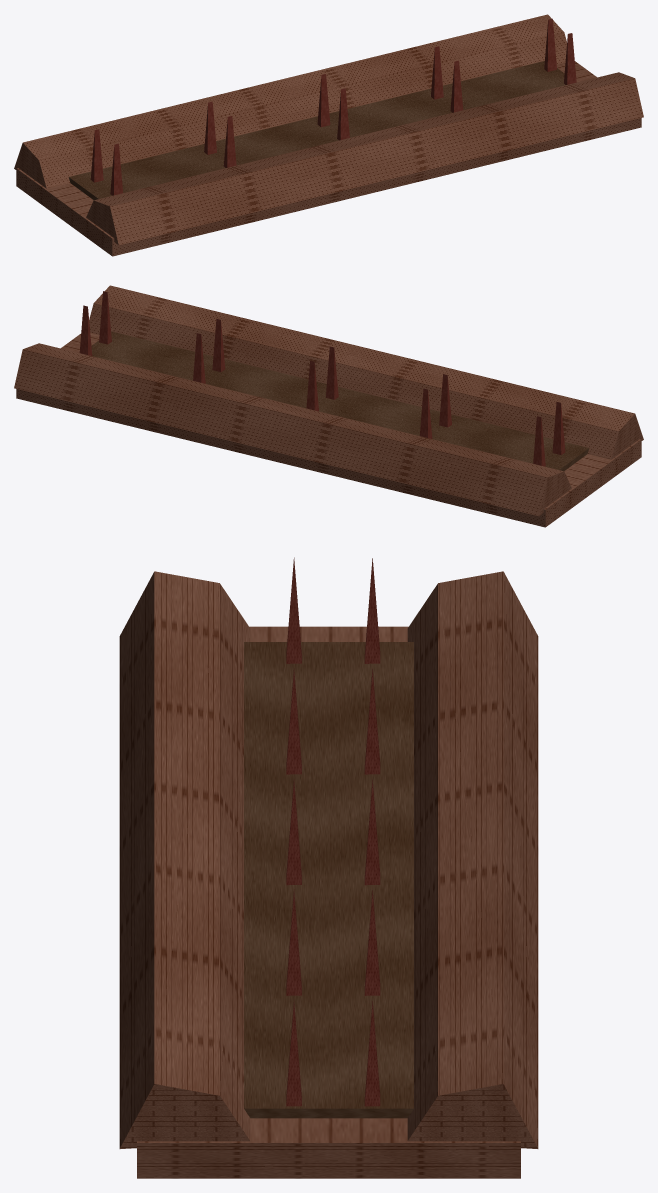
3 renders of one model, top to bottom at view 1: azimuth 30°, elevation 25°; view 2: azimuth 150°, elevation 25°; view 3: azimuth 270°, elevation 25°, orthographic. The views are drawn at different scales.
Visible parts, largest first — view 1: garrison_part_0001, garrison_part_0000; view 2: garrison_part_0001, garrison_part_0000; view 3: garrison_part_0001, garrison_part_0000.
Part boxes in pixels (x1,y1,x2,y2): garrison_part_0001: (14, 14, 643, 245); garrison_part_0000: (16, 61, 641, 256); garrison_part_0001: (14, 285, 643, 516); garrison_part_0000: (16, 331, 641, 527); garrison_part_0001: (119, 557, 538, 1148); garrison_part_0000: (137, 626, 520, 1178).
Size of the model in its own units: 280 by 37 by 96.
